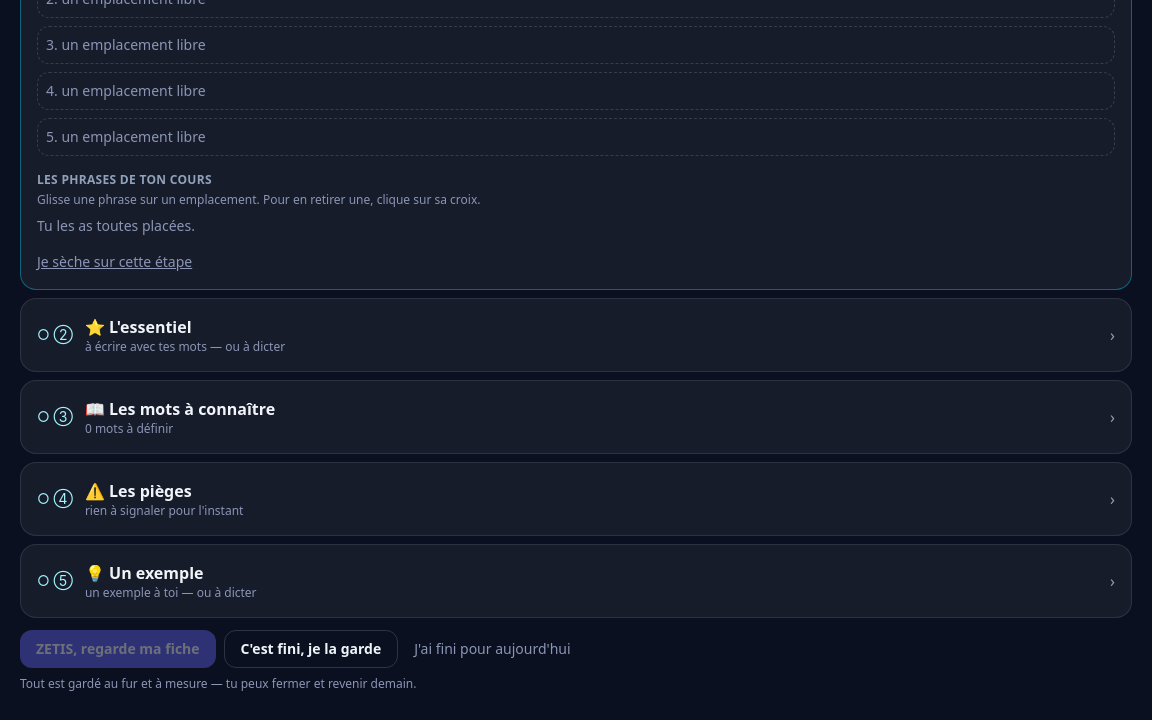
Test: AtelierPage — les pièges › montre la RAISON, pas seulement le piège
(page scrolled)
Click the text "⚠️ Les pièges".
click(138, 491)  # box [85,480,192,502]
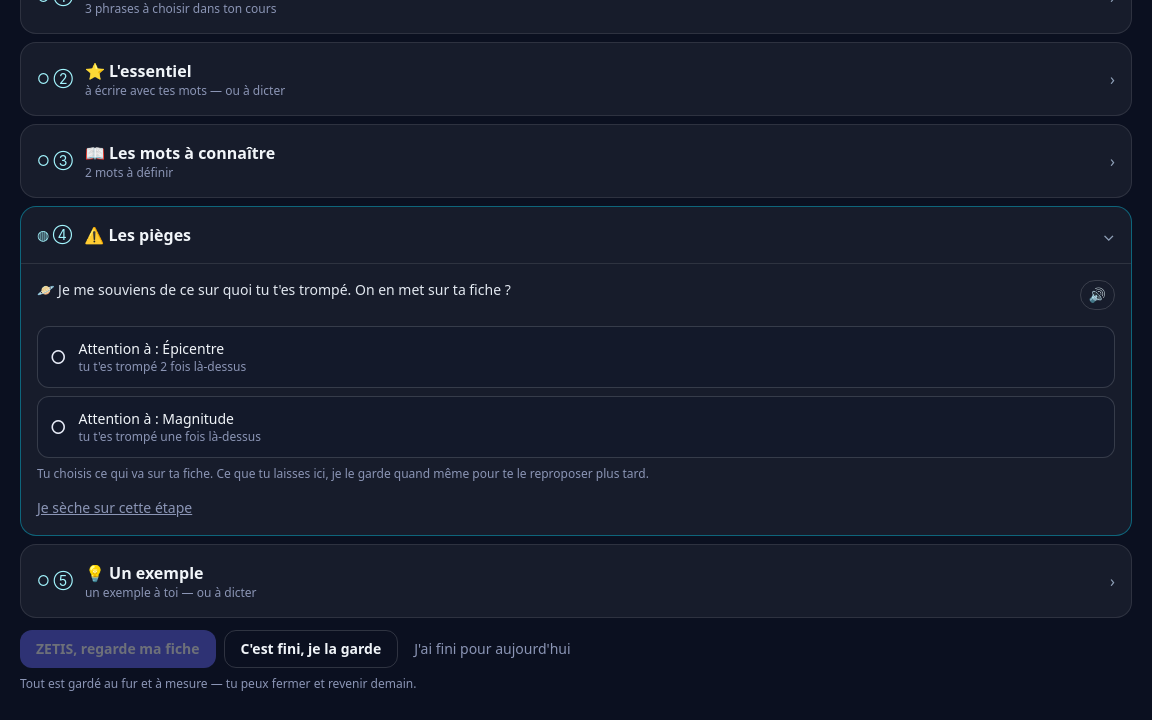
Expected: the text "Attention à : Épicentre" is shown, [78,339,224,358]
Expected: the text "tu t'es trompé 2 fois là-dessus" is shown, [78,358,246,375]
